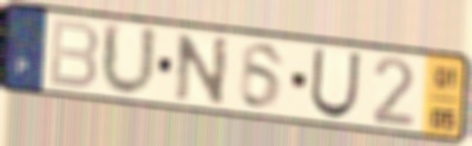2: (368, 55, 417, 129)
6: (237, 41, 287, 112)
B: (47, 16, 102, 92)
N: (173, 31, 232, 109)
U: (98, 18, 160, 101), (307, 46, 364, 121)
